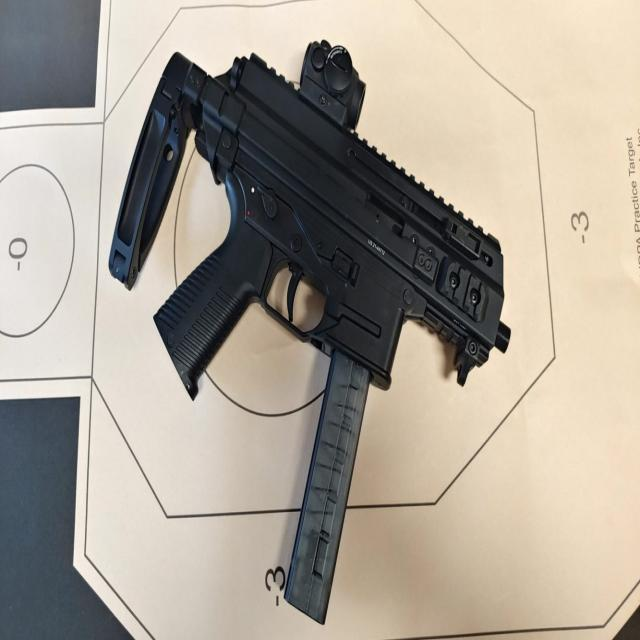scope: (300, 29, 372, 127)
smg: (156, 38, 504, 601)
